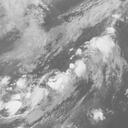cyclone: (47, 58, 89, 93)
